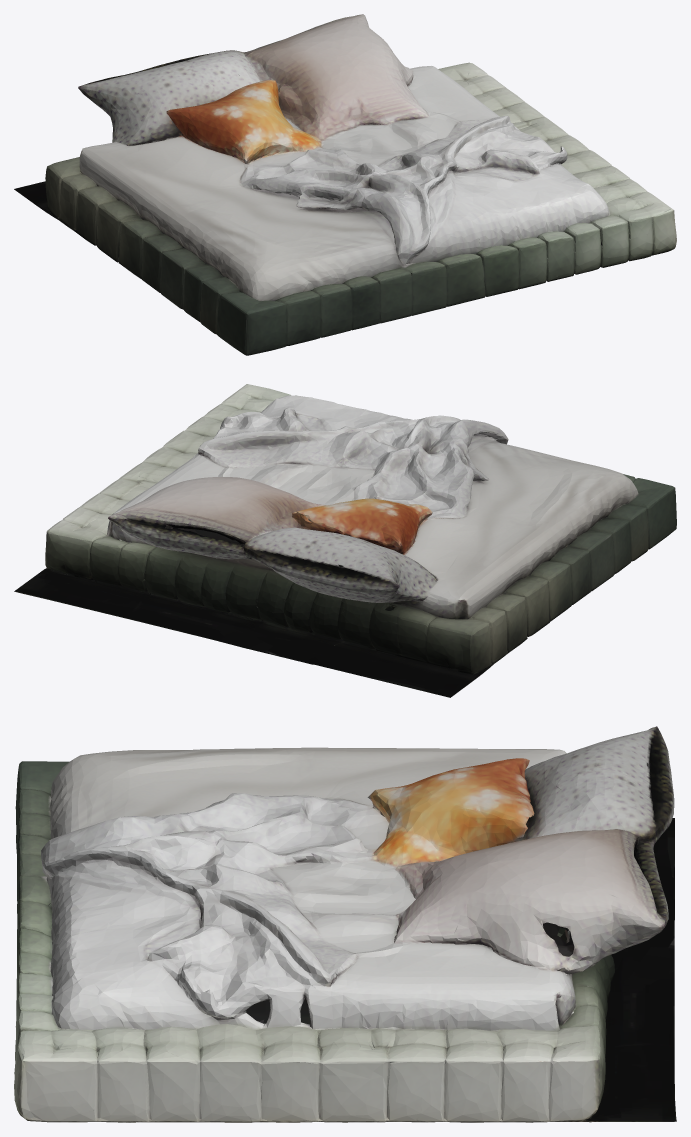
Rendered from gen_c0f89071283d.glb.
The picture shows the model from 3 angles, top to bottom: view 1: azimuth 30°, elevation 25°; view 2: azimuth 150°, elevation 25°; view 3: azimuth 270°, elevation 25°; orthographic projection. The views are drawn at different scales.
Visible parts, largest first — view 1: world; view 2: world; view 3: world.
Boxes of the visible parts, x1,y1,x2,y2 form: world: (14, 14, 676, 355); world: (14, 384, 676, 697); world: (14, 726, 676, 1122).
Bounding box in the file's own units: 1 × 0.2441 × 0.9226.
Materials: 1 (1 with a texture image).
